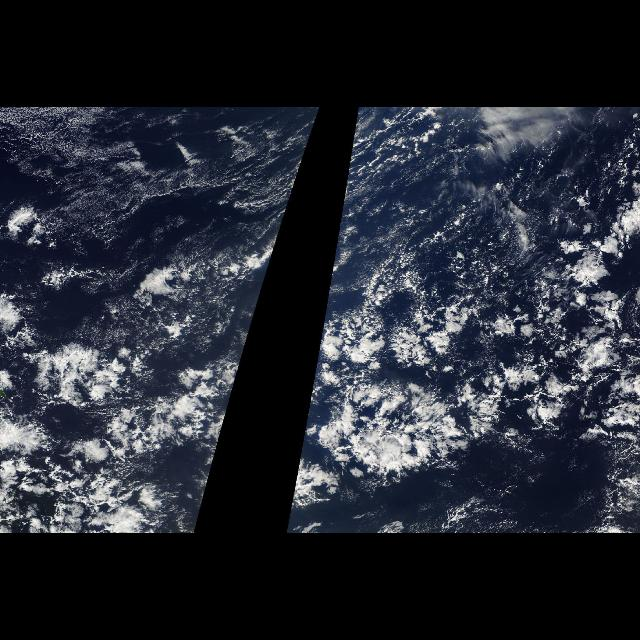Fish: (288, 249, 630, 521), (53, 249, 274, 521)
Flower: (6, 266, 260, 478)
Sugar: (1, 109, 317, 279)
